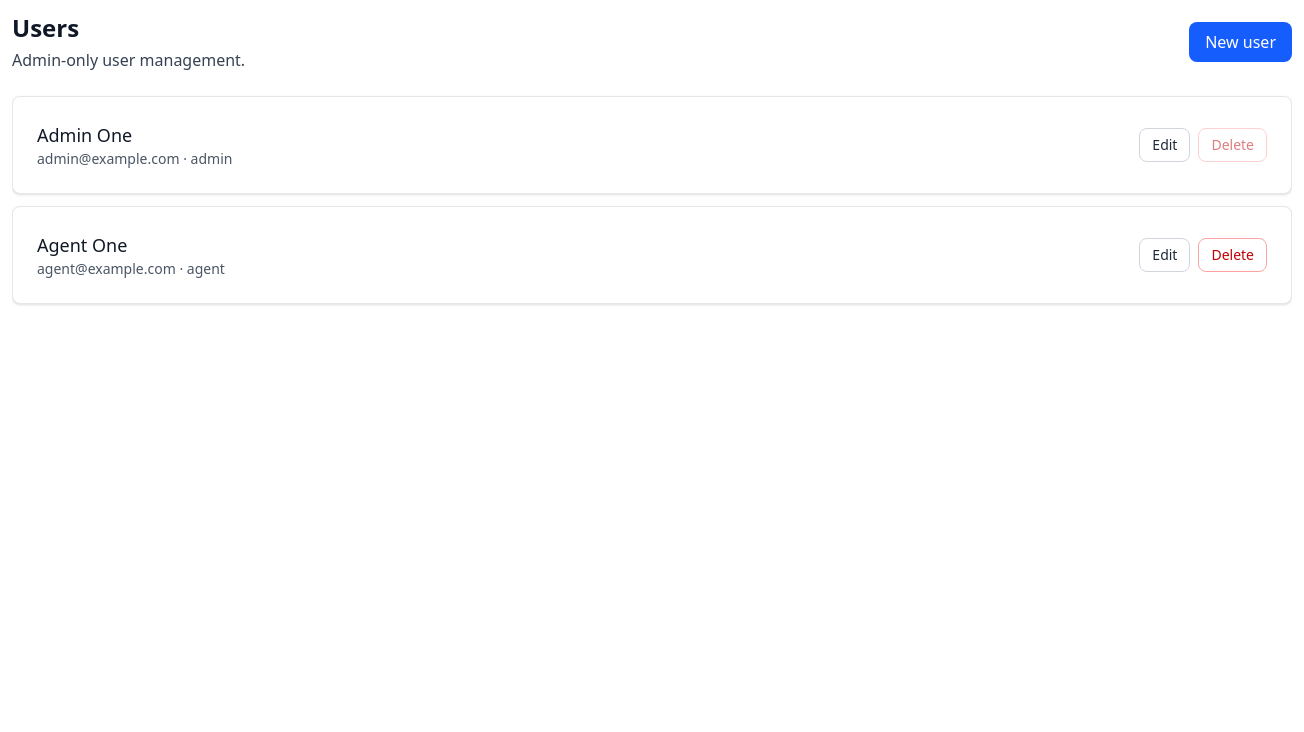
Test: UsersPage › opens edit form for a user
Click the button "Edit" in the row of "admin@example.com" at (1165, 145), box [1139,128,1190,162]
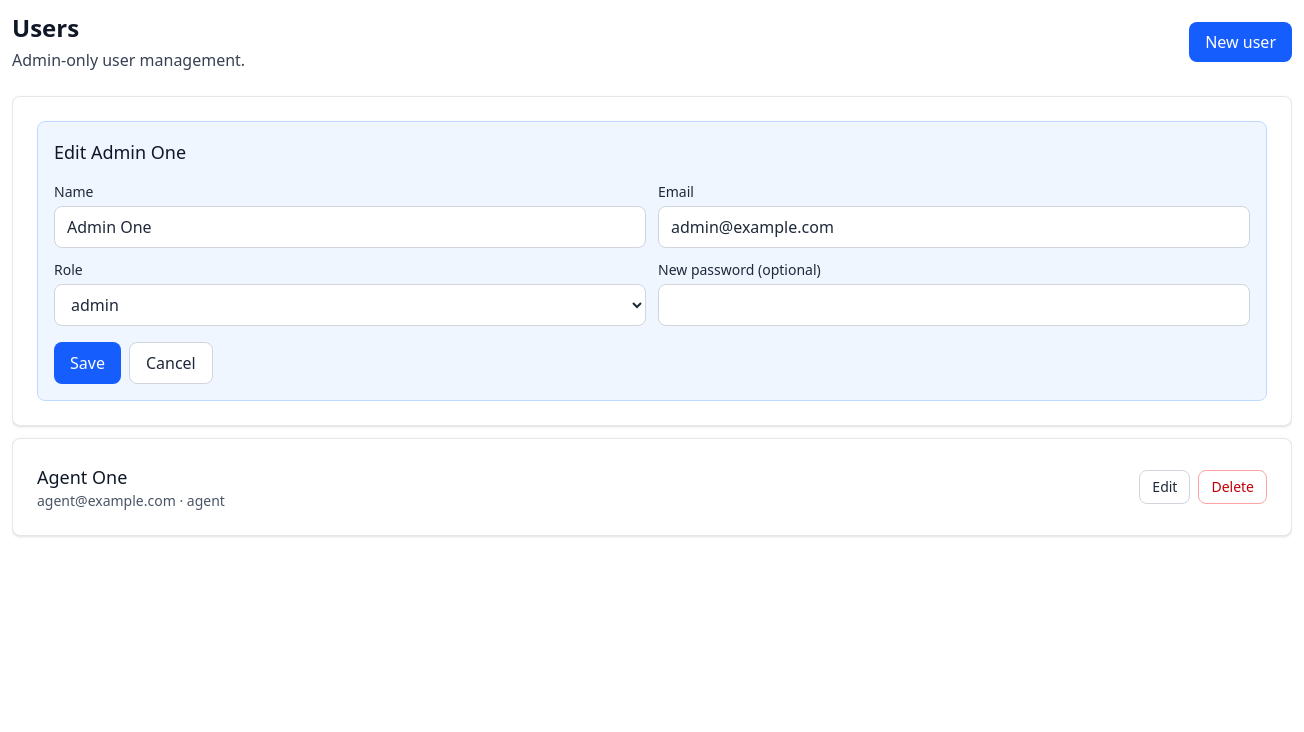
Now the heading "Edit Admin One" is shown, box [54,140,186,164]
